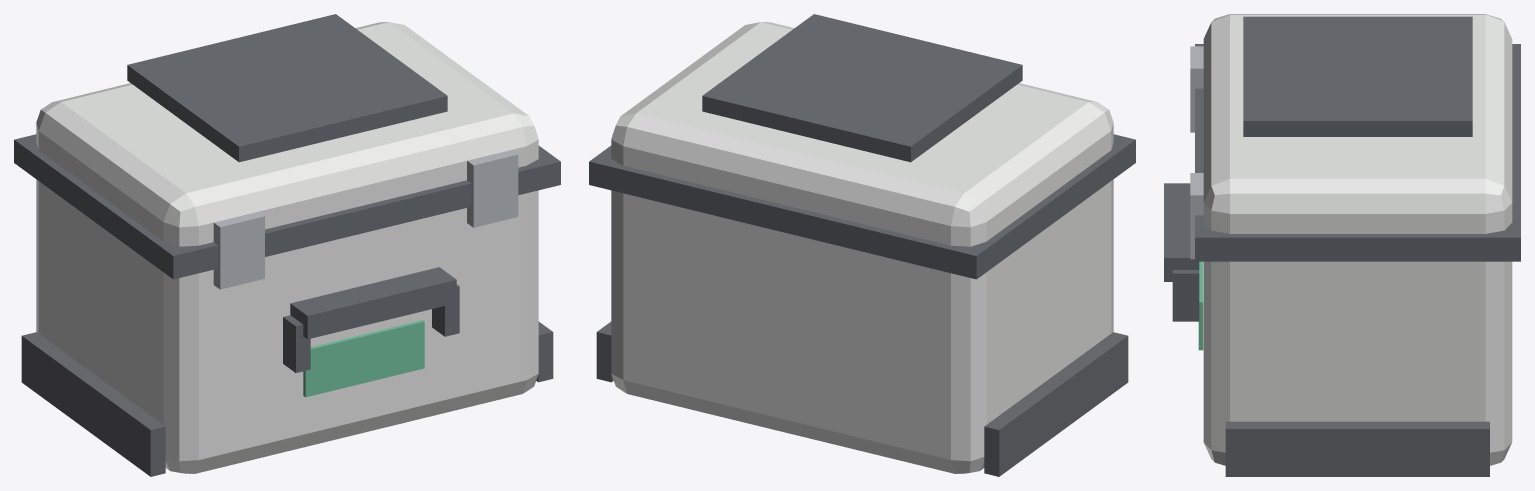
File: obj_sample_case.fbx
3 renders of one model, left to right at view 1: azimuth 30°, elevation 25°; view 2: azimuth 150°, elevation 25°; view 3: azimuth 270°, elevation 25°, orthographic. The views are drawn at different scales.
Parts seen in each view (by area): view 1: obj_sample_case; view 2: obj_sample_case; view 3: obj_sample_case.
Part boxes in pixels (x1,y1,x2,y2): obj_sample_case: (14,14,560,476); obj_sample_case: (589,14,1135,476); obj_sample_case: (1164,14,1520,476).
Size of the model in its own units: 0.54 by 0.395 by 0.405.
